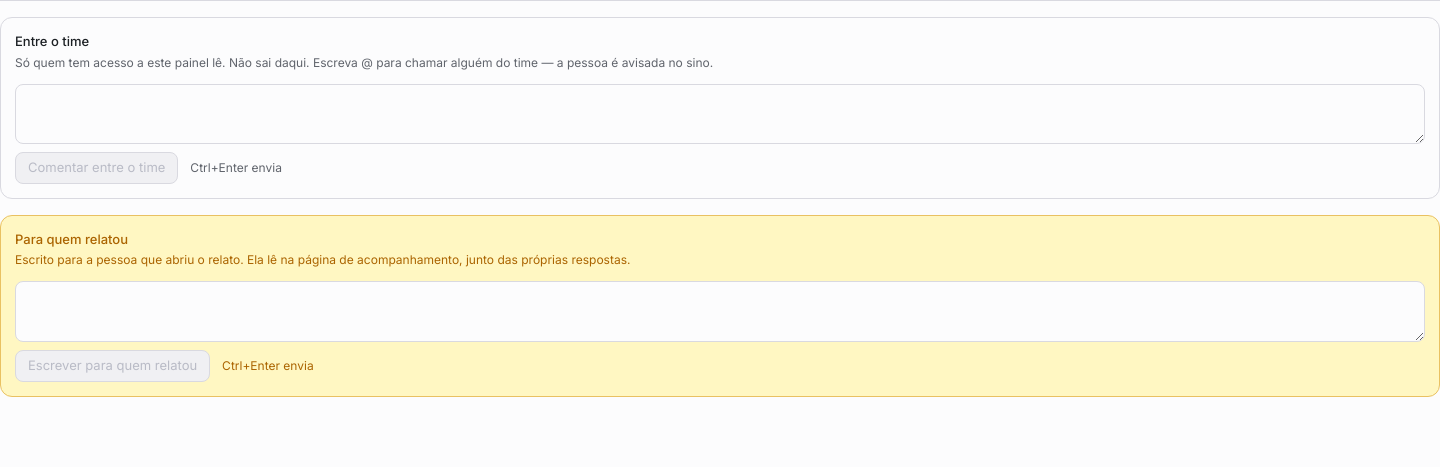
Test: o campo com "@" › o comentário entre o time sai com a marca; a caixa de quem relatou não menciona
In the text box named "Entre o time": (720, 114) [15,84,1425,144], type "Olha @bru"
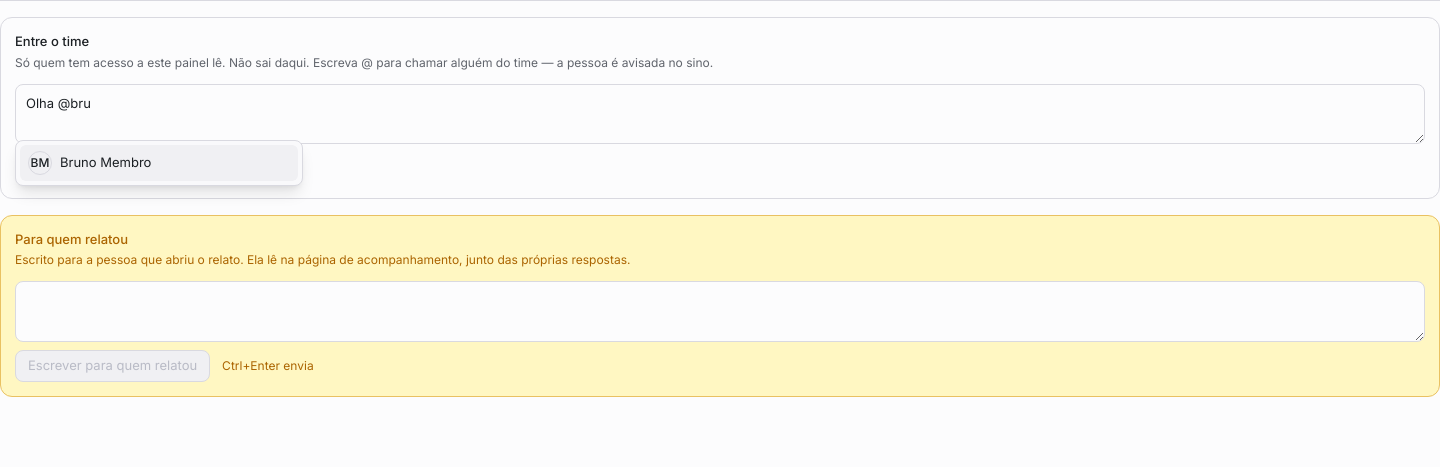
Expected: the list is shown, [15,140,303,186]
Press Enter in the text box named "Entre o time", box [15,84,1425,144]
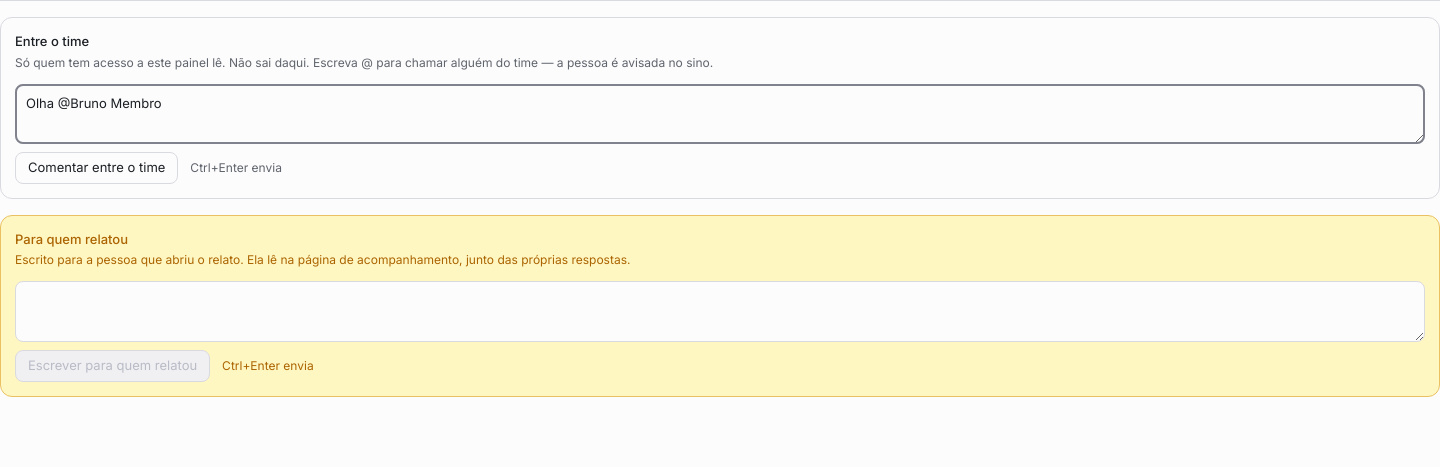
Click the button "Comentar entre o time": (97, 168) [15,152,178,184]
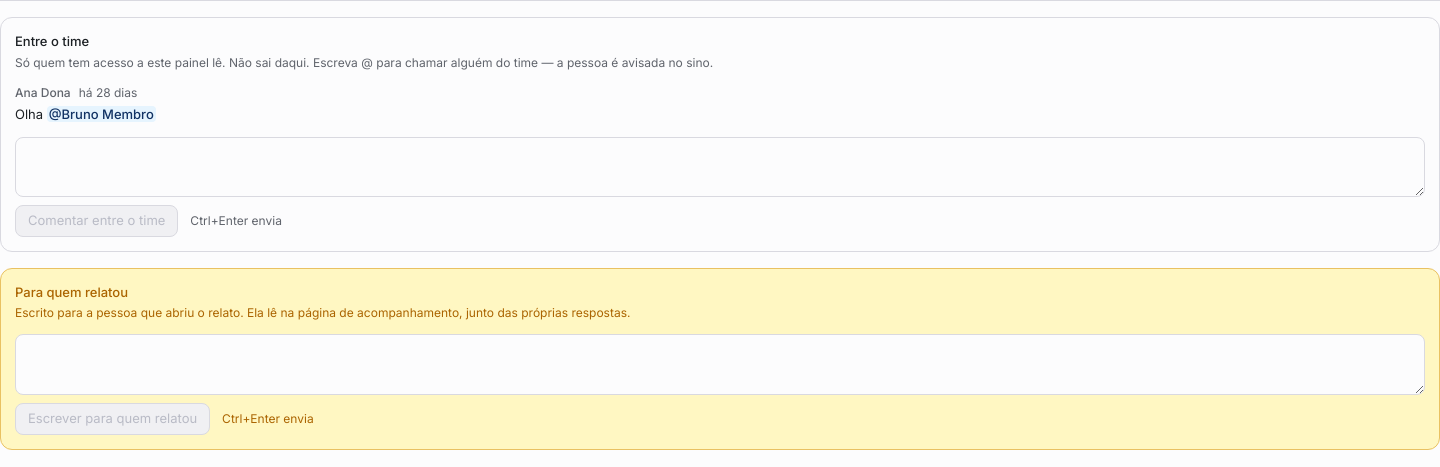
Expected: the text "@Bruno Membro" is shown, [47,106,156,122]
